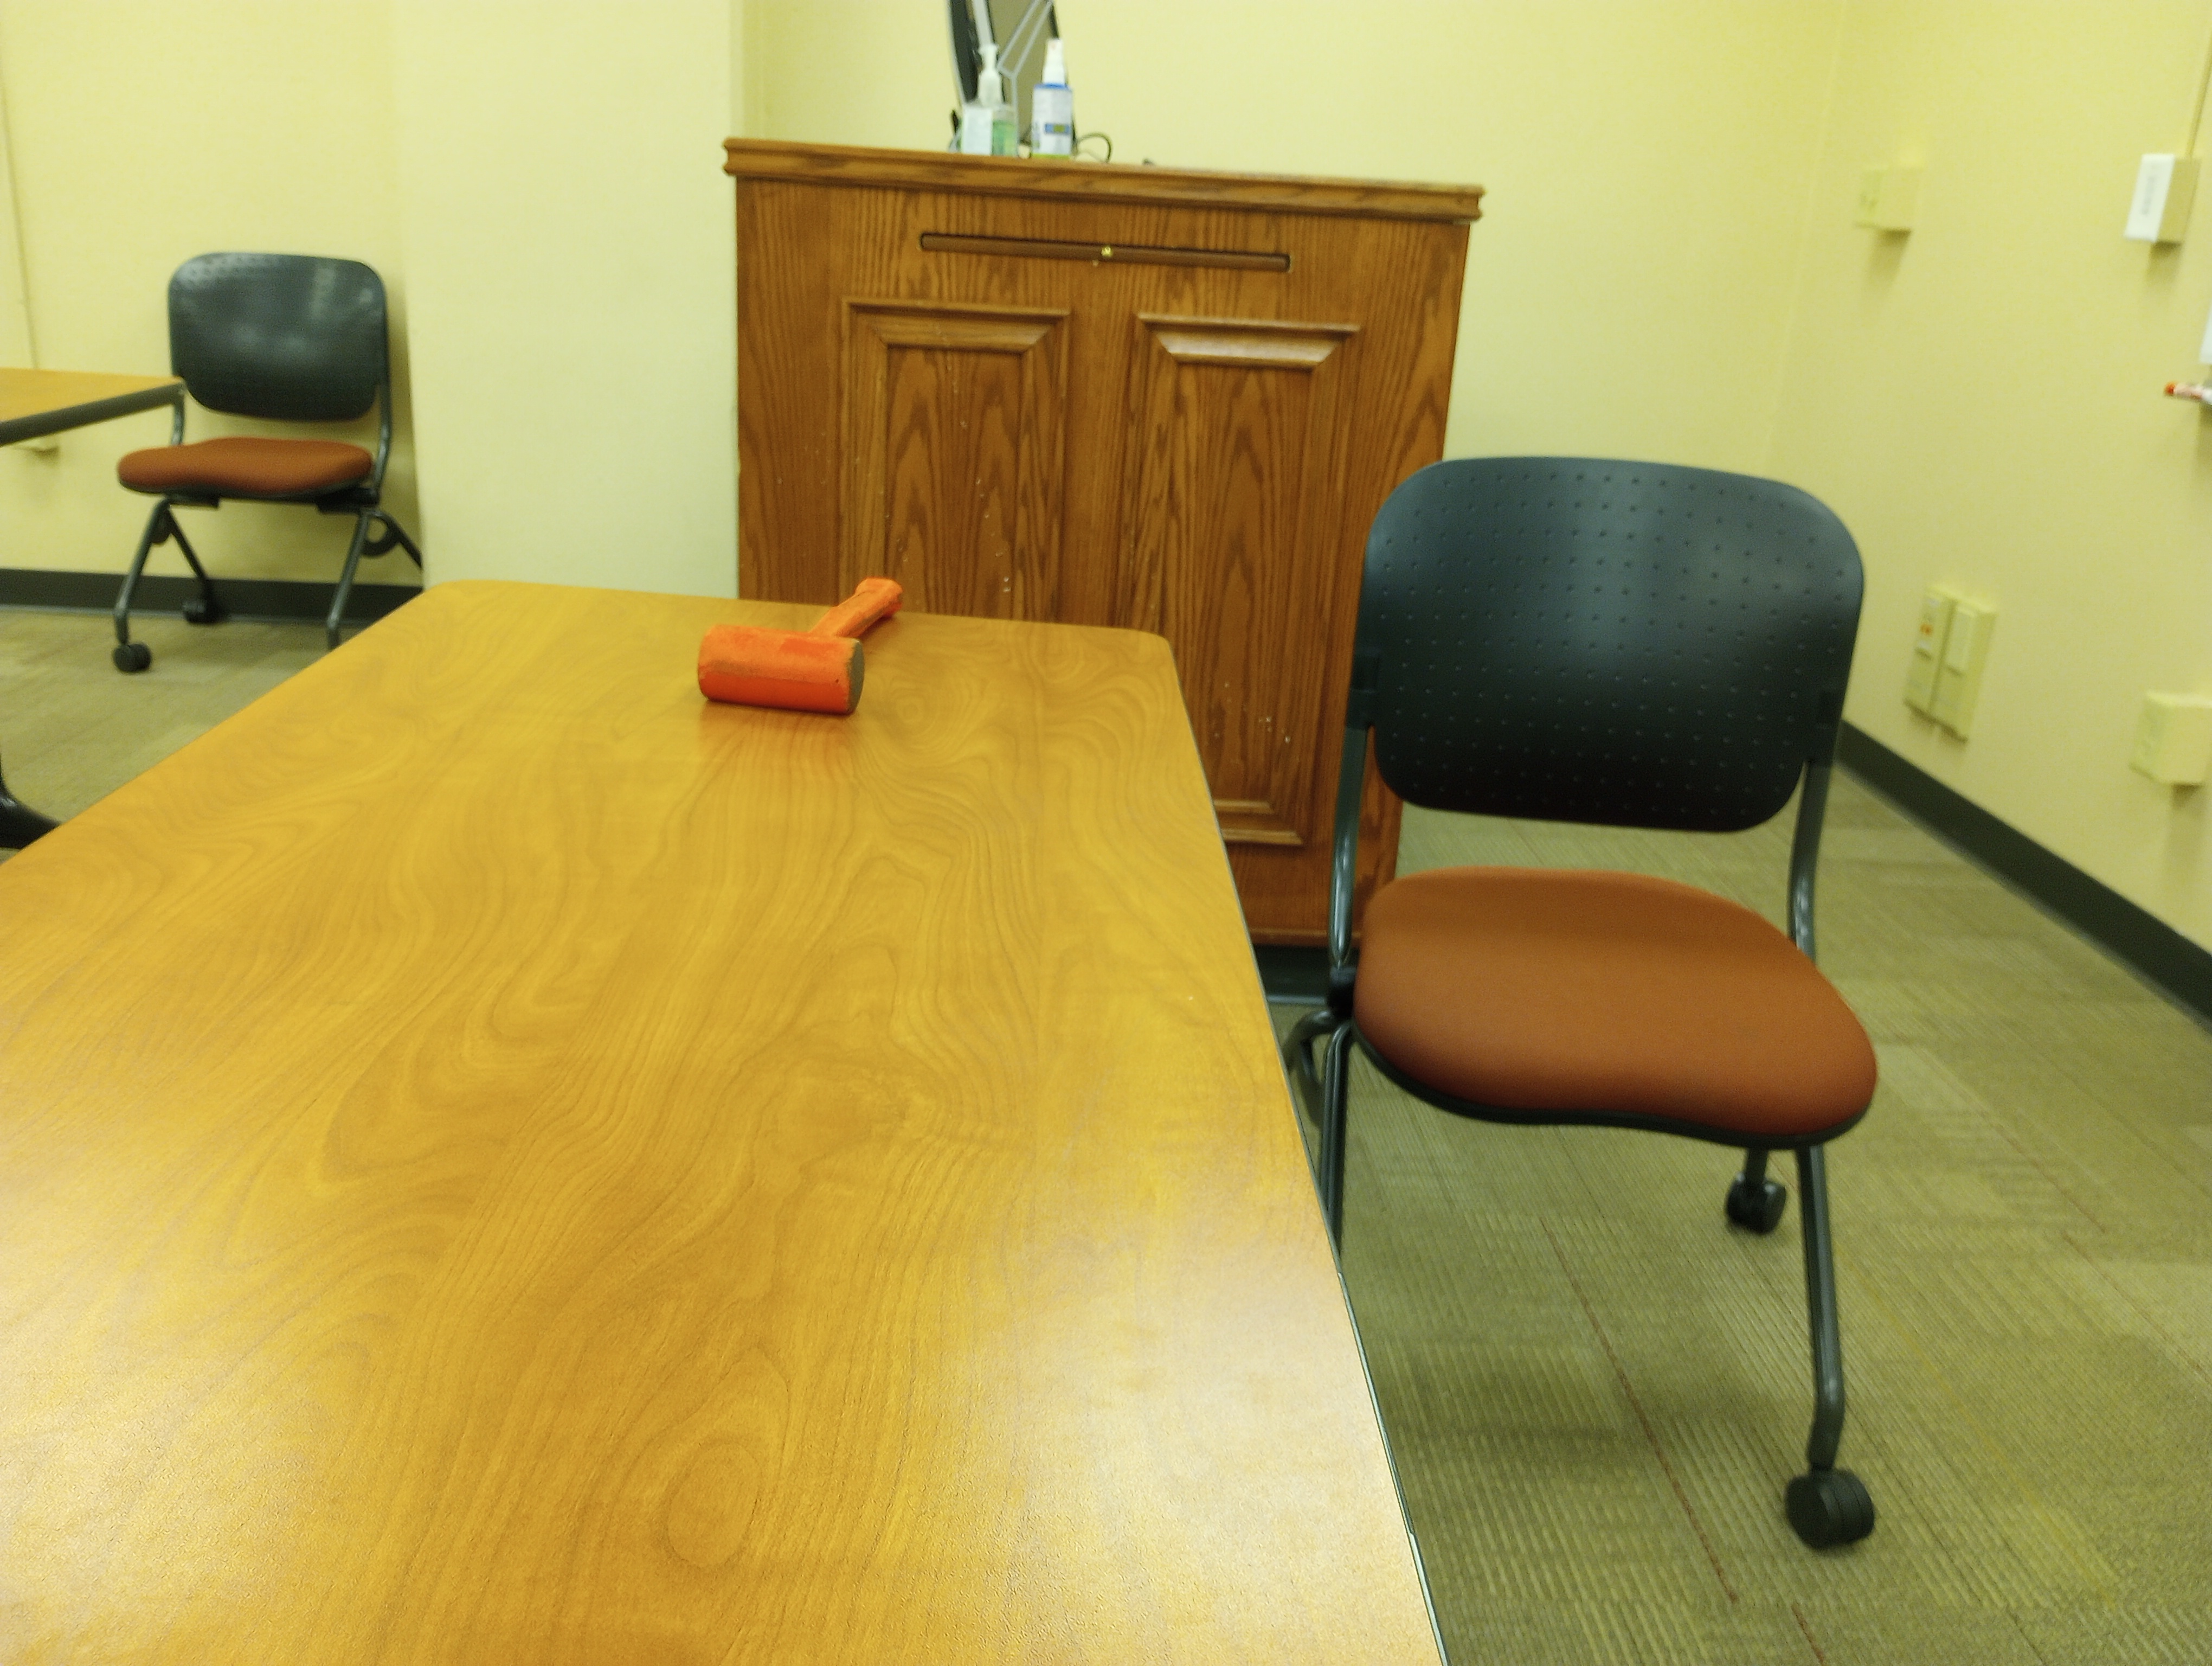hammer: (687, 551, 913, 716)
